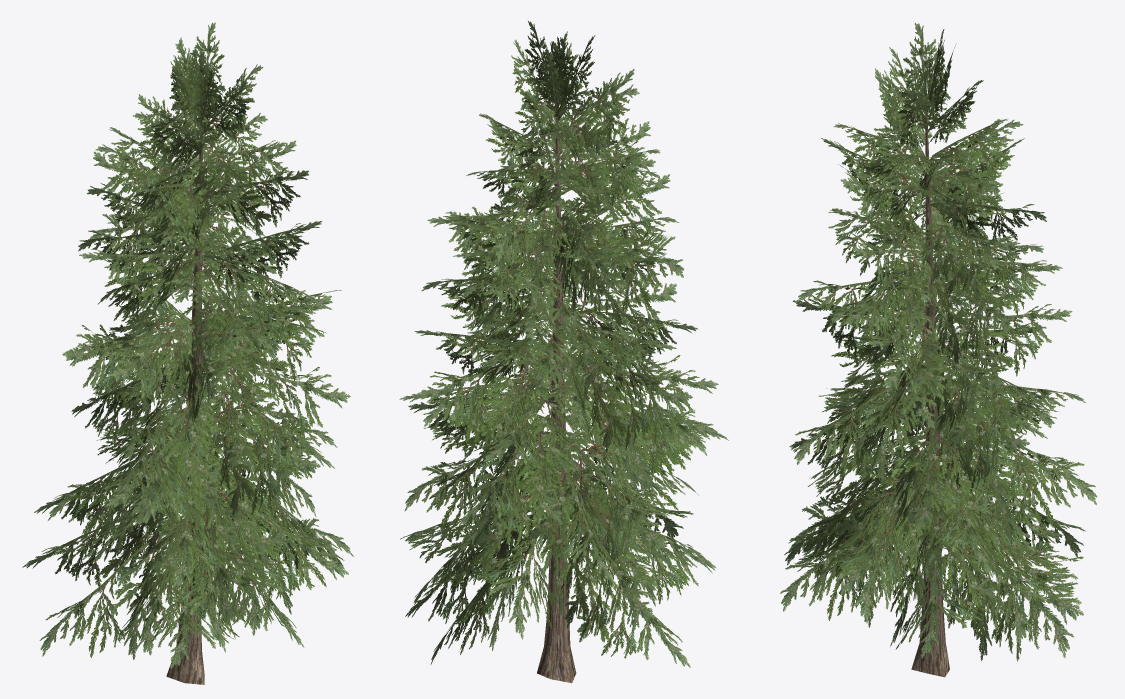
File: Taxodium_Distichum_Spring_Adult.glb
The picture shows the model from 3 angles, left to right: view 1: azimuth 30°, elevation 25°; view 2: azimuth 150°, elevation 25°; view 3: azimuth 270°, elevation 25°; orthographic projection.
Visible parts, largest first — view 1: Taxodium_Distichum_Spring_Adult__LOD3; view 2: Taxodium_Distichum_Spring_Adult__LOD3; view 3: Taxodium_Distichum_Spring_Adult__LOD3.
Boxes of the visible parts, x1=… form: Taxodium_Distichum_Spring_Adult__LOD3: x1=22, y1=22, x2=353, y2=684; Taxodium_Distichum_Spring_Adult__LOD3: x1=399, y1=21, x2=728, y2=683; Taxodium_Distichum_Spring_Adult__LOD3: x1=780, y1=23, x2=1097, y2=677.
Bounding box in the file's own units: 15.01 × 29.71 × 14.07.
Materials: 2 (2 with a texture image).
